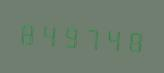eight: (123, 22, 143, 57), (17, 15, 37, 49)
four: (38, 17, 58, 51), (102, 21, 122, 55)
nine: (60, 18, 80, 52)
seven: (81, 19, 101, 54)
